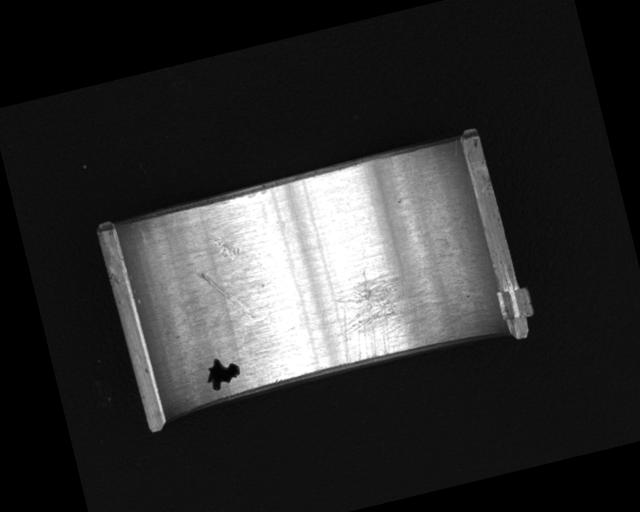blot: (200, 352, 244, 393)
bruise: (211, 232, 242, 263)
nick: (198, 263, 255, 329)
scratch: (324, 248, 471, 366)
